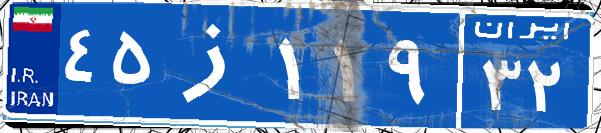1: (273, 28, 330, 110), (330, 28, 385, 110)
2: (525, 38, 570, 115)
3: (475, 38, 525, 113)
4: (57, 26, 110, 107)
5: (110, 28, 158, 105)
9: (385, 28, 445, 110)
ز: (158, 15, 273, 115)
